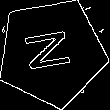N_E: (23, 28, 81, 77)
